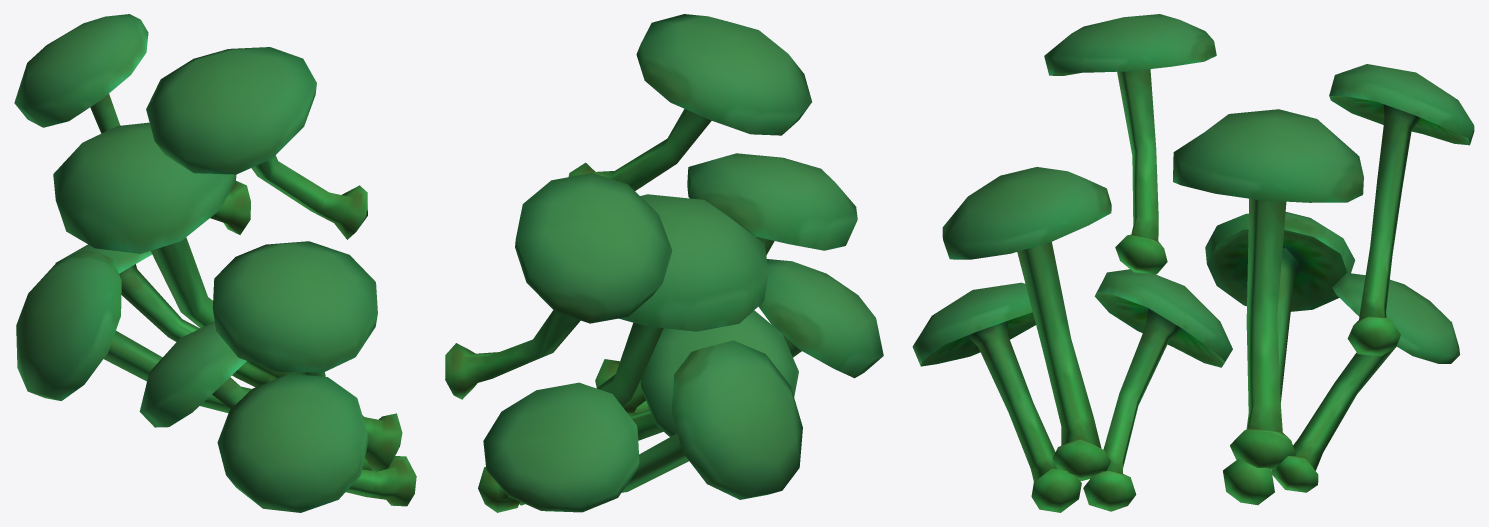
File: Mushroom_03_Group_02.fbx
3 views of the same model, side by side, from view 1: azimuth 30°, elevation 25°; view 2: azimuth 150°, elevation 25°; view 3: azimuth 270°, elevation 25° (orthographic). The views are drawn at different scales.
Visible parts, largest first — view 1: Mushroom_03_Group_02_LOD0; view 2: Mushroom_03_Group_02_LOD0; view 3: Mushroom_03_Group_02_LOD0.
Boxes of the visible parts, x1,y1,x2,y2 form: Mushroom_03_Group_02_LOD0: (14,14,416,512); Mushroom_03_Group_02_LOD0: (445,14,883,512); Mushroom_03_Group_02_LOD0: (912,14,1474,512).
Size of what is drawn, in the model's own units: 0.1734 by 0.2658 by 0.3108.
